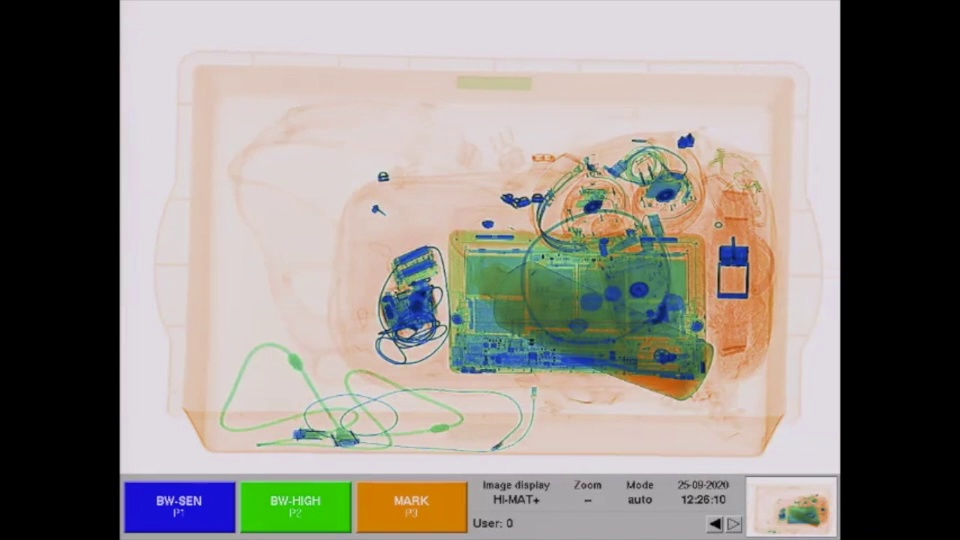tray_img: (149, 41, 827, 464)
